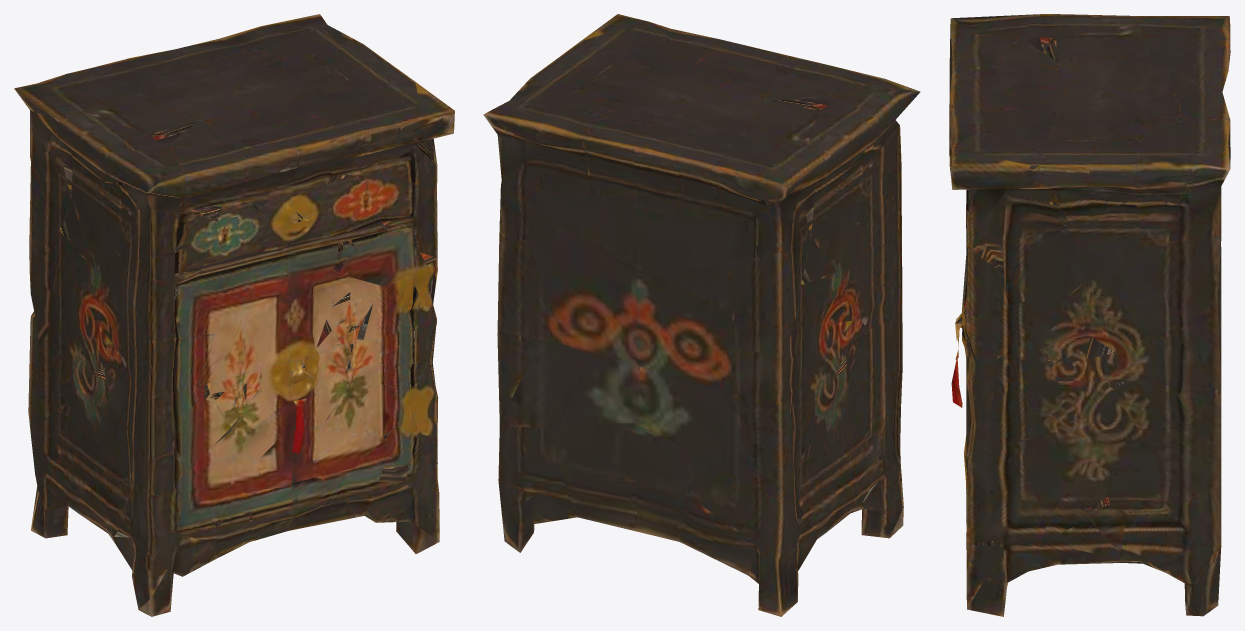
File: pr_cabinet2.glb
3 renders of one model, left to right at view 1: azimuth 30°, elevation 25°; view 2: azimuth 150°, elevation 25°; view 3: azimuth 270°, elevation 25°, orthographic. The views are drawn at different scales.
Bounding box in the file's own units: 1.38 × 1.9 × 1.06.
1 material, 1 textured.
